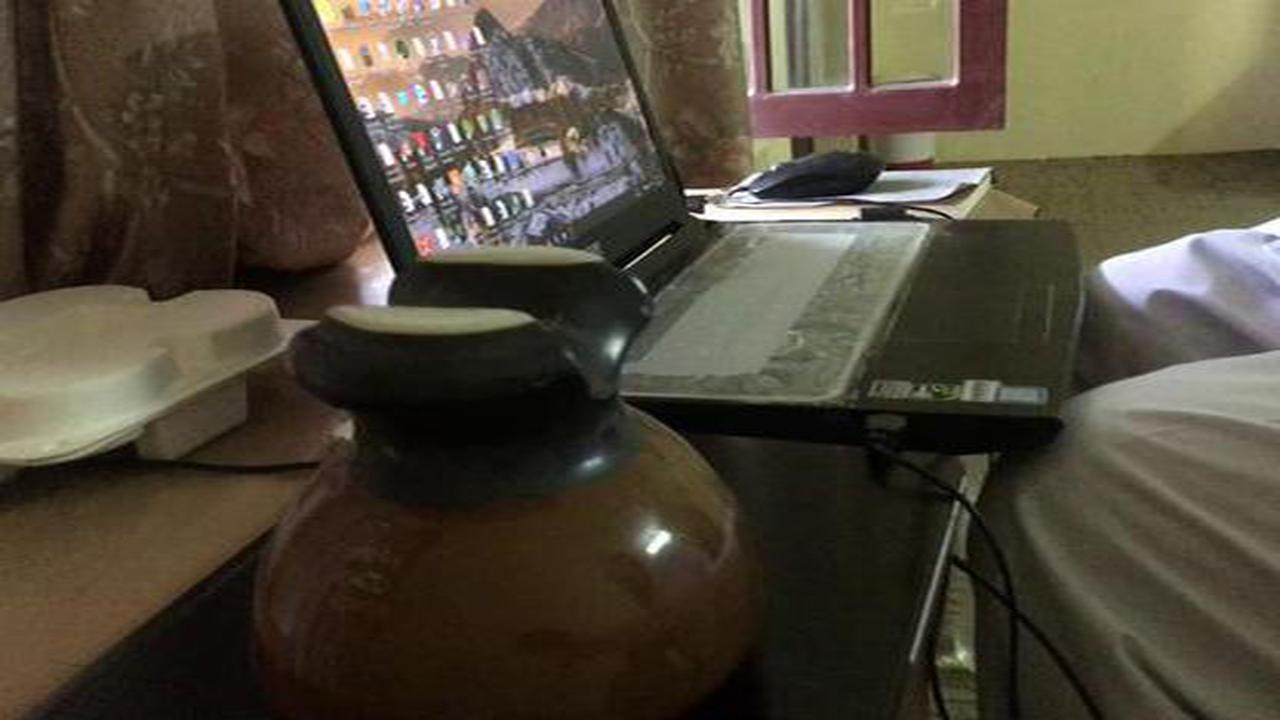insulator_pin: (231, 220, 785, 714)
